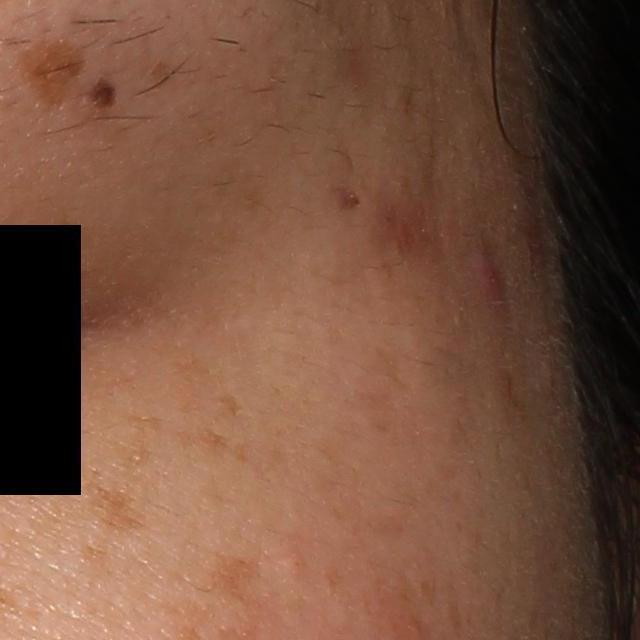melasma: (71, 455, 158, 541), (203, 548, 264, 616), (173, 422, 255, 466), (118, 407, 169, 472), (329, 181, 367, 216), (217, 393, 245, 418)
nevus: (83, 76, 131, 120)
papule: (476, 248, 513, 322)
